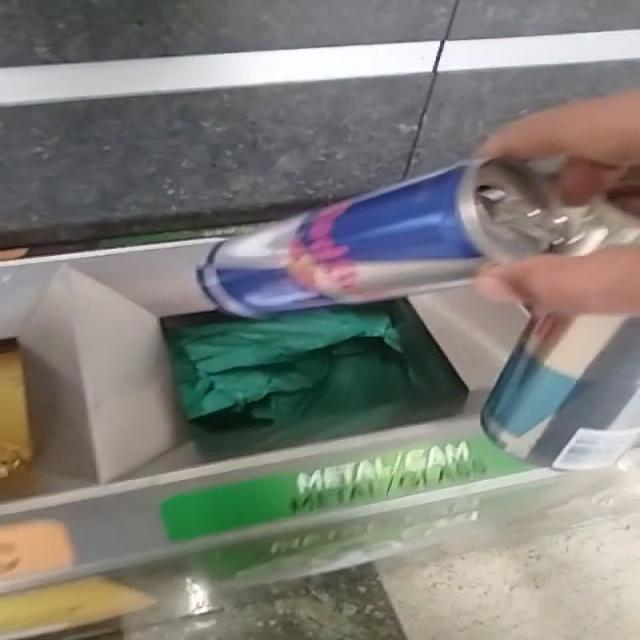metal: (199, 160, 611, 316)
